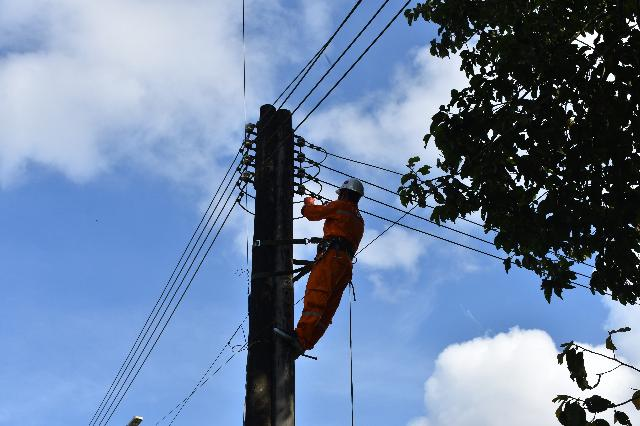gloves: (296, 191, 321, 218)
harness: (308, 233, 363, 261)
helmet: (335, 173, 370, 197)
shoes: (273, 321, 309, 356)
